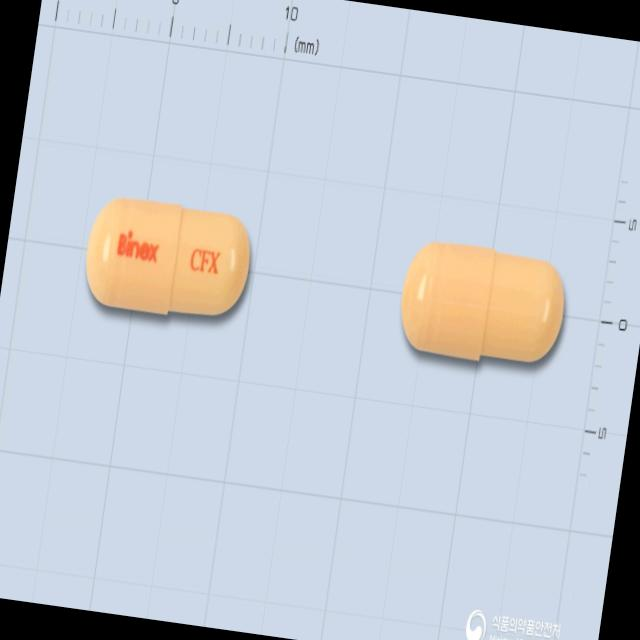Cefixime Cap: (76, 190, 261, 334)
